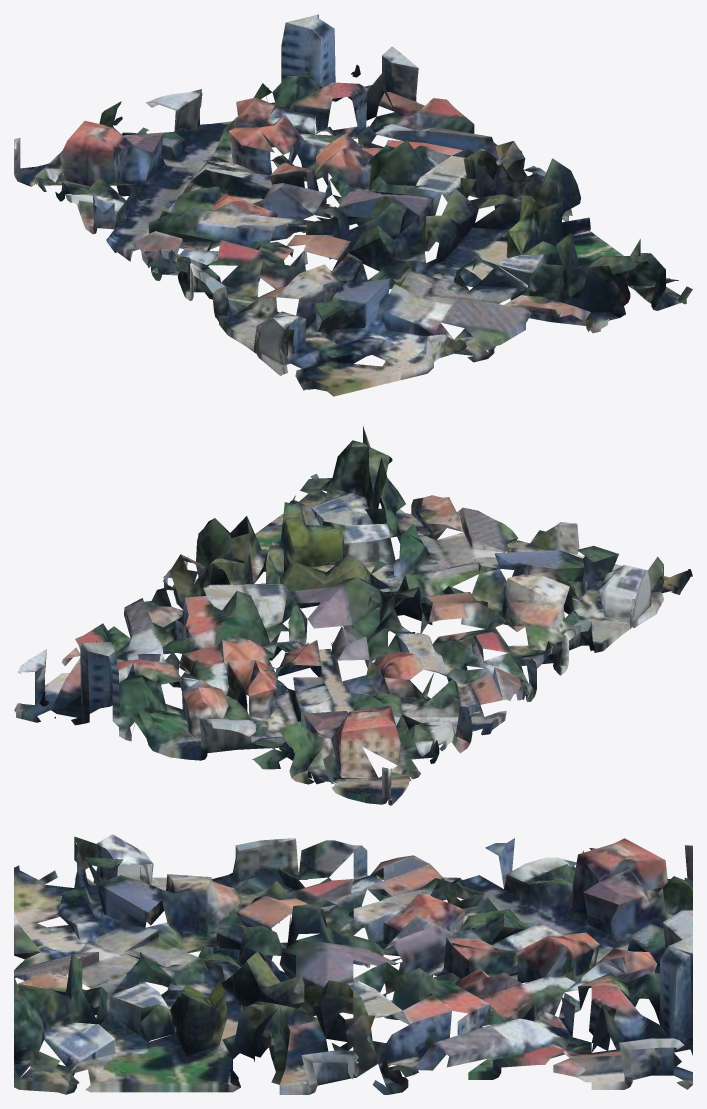
The picture shows the model from 3 angles, top to bottom: view 1: azimuth 30°, elevation 25°; view 2: azimuth 150°, elevation 25°; view 3: azimuth 270°, elevation 25°; orthographic projection. The views are drawn at different scales.
Visible parts, largest first — view 1: 304362727043614267_0; view 2: 304362727043614267_0; view 3: 304362727043614267_0.
Part boxes in pixels (<box>): 304362727043614267_0: <box>14,14,692,396</box>; 304362727043614267_0: <box>14,426,692,805</box>; 304362727043614267_0: <box>14,834,692,1094</box>.
Bounding box in the file's own units: 112 × 25.9 × 153.
Materials: 1 (1 with a texture image).
